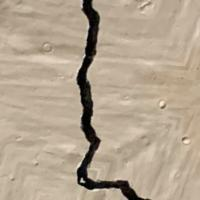crack: (56, 0, 152, 199)
